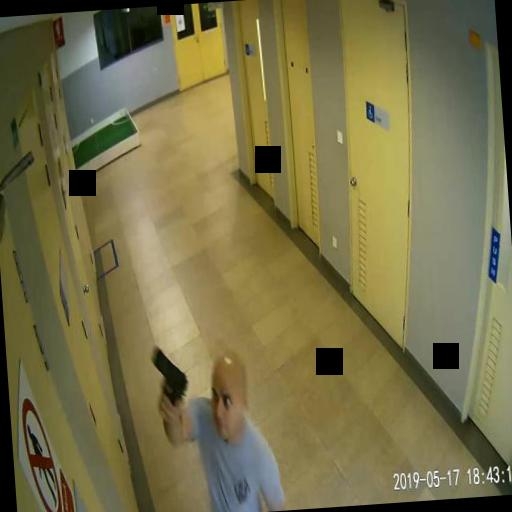Handgun: (150, 344, 188, 412)
